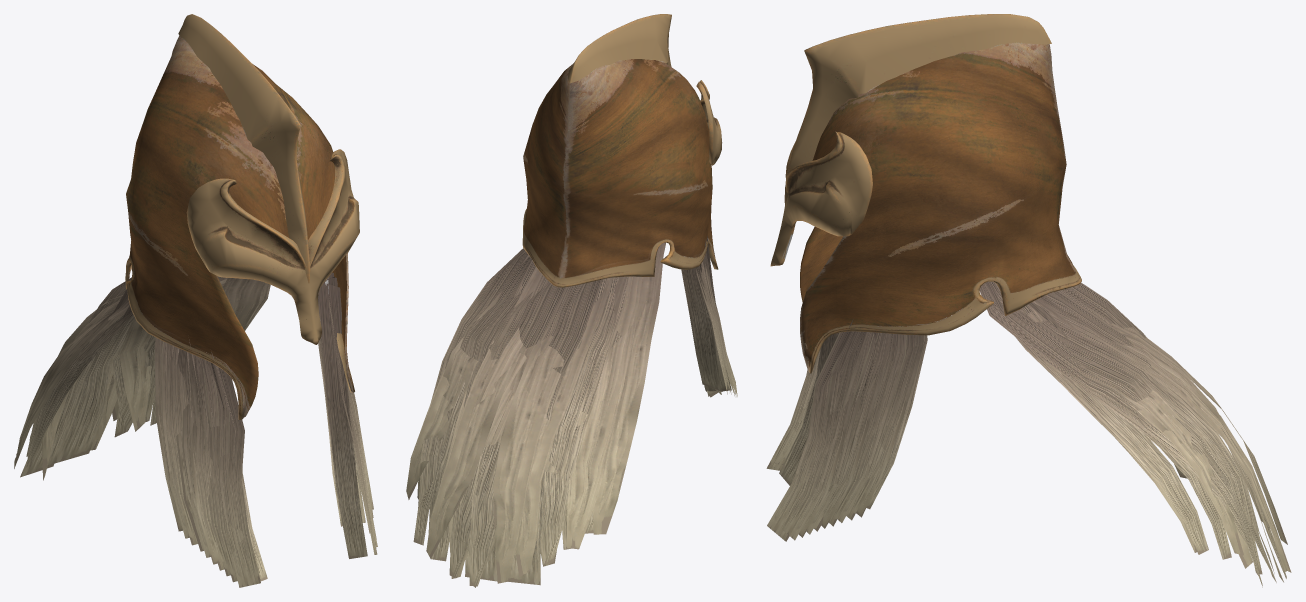
File: mkwd_inf1_t2_helmet_bronze_hc.fbx
3 views of the same model, side by side, from view 1: azimuth 30°, elevation 25°; view 2: azimuth 150°, elevation 25°; view 3: azimuth 270°, elevation 25° (orthographic). The views are drawn at different scales.
Parts seen in each view (by area): view 1: mkwd_inf1_t2_helmet_bronze_hc.lod0.0, mkwd_inf1_t2_helmet_bronze_hc.lod0.1; view 2: mkwd_inf1_t2_helmet_bronze_hc.lod0.1, mkwd_inf1_t2_helmet_bronze_hc.lod0.0; view 3: mkwd_inf1_t2_helmet_bronze_hc.lod0.0, mkwd_inf1_t2_helmet_bronze_hc.lod0.1.
Part boxes in pixels (x1,y1,x2,y2): mkwd_inf1_t2_helmet_bronze_hc.lod0.0: (125,14,359,419); mkwd_inf1_t2_helmet_bronze_hc.lod0.1: (14,272,377,587); mkwd_inf1_t2_helmet_bronze_hc.lod0.1: (406,235,737,587); mkwd_inf1_t2_helmet_bronze_hc.lod0.0: (522,14,722,287); mkwd_inf1_t2_helmet_bronze_hc.lod0.0: (770,14,1081,373); mkwd_inf1_t2_helmet_bronze_hc.lod0.1: (766,281,1291,587).
Size of the model in its own units: 0.239 by 0.4703 by 0.5515.
